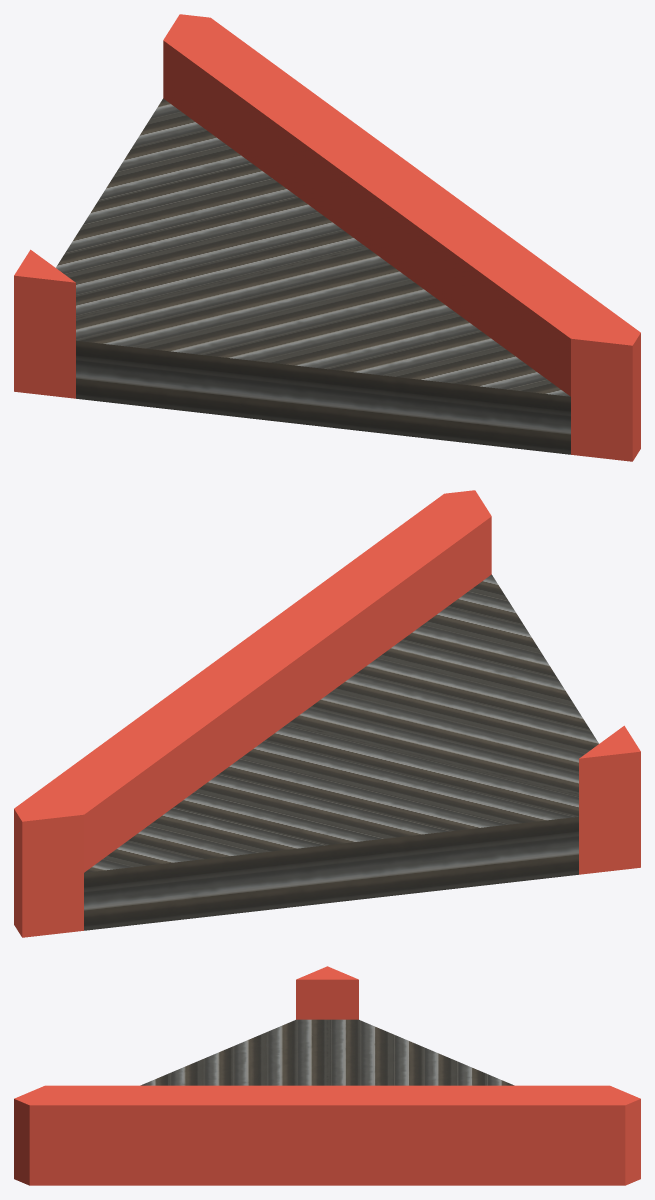
Rendered from Conveyor_Corner.fbx.
3 views of the same model, one above another, from view 1: azimuth 30°, elevation 25°; view 2: azimuth 150°, elevation 25°; view 3: azimuth 270°, elevation 25° (orthographic). The views are drawn at different scales.
Parts seen in each view (by area): view 1: bend_cornerEdge%; view 2: bend_cornerEdge%; view 3: bend_cornerEdge%.
Boxes of the visible parts, x1,y1,x2,y2 form: bend_cornerEdge%: (14, 14, 640, 461); bend_cornerEdge%: (14, 490, 640, 937); bend_cornerEdge%: (14, 966, 640, 1185).
Size of the model in its own units: 7.42 by 2 by 14.14.
Materials: 2 (1 with a texture image).
